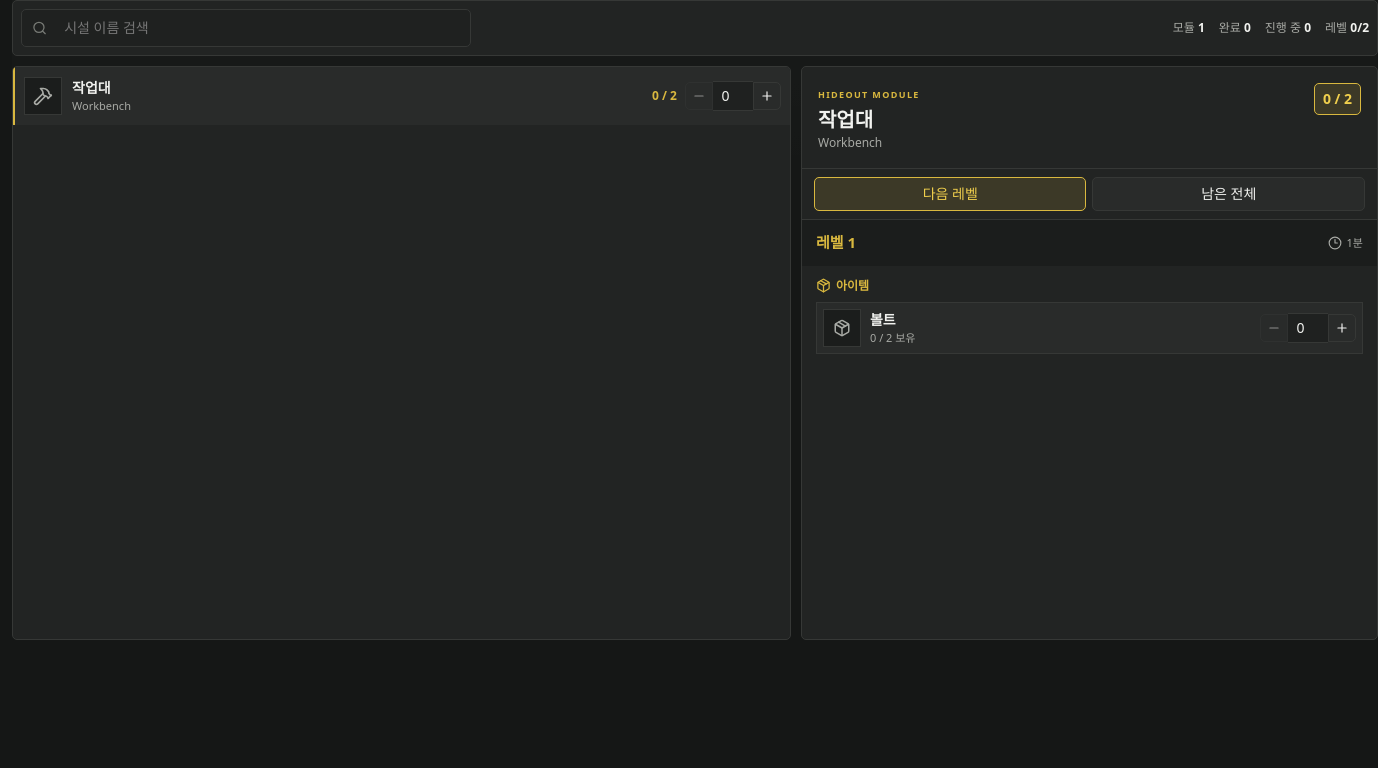
Test: HideoutPage › tracks station levels and reflects future requirements
Check: the text "볼트" is shown, box [870,310,896,329]
Check: the 1st text "0 / 2" is shown, box [652,87,677,104]
Click the button named "작업대 레벨 증가" at (767, 96), box [753,82,781,110]
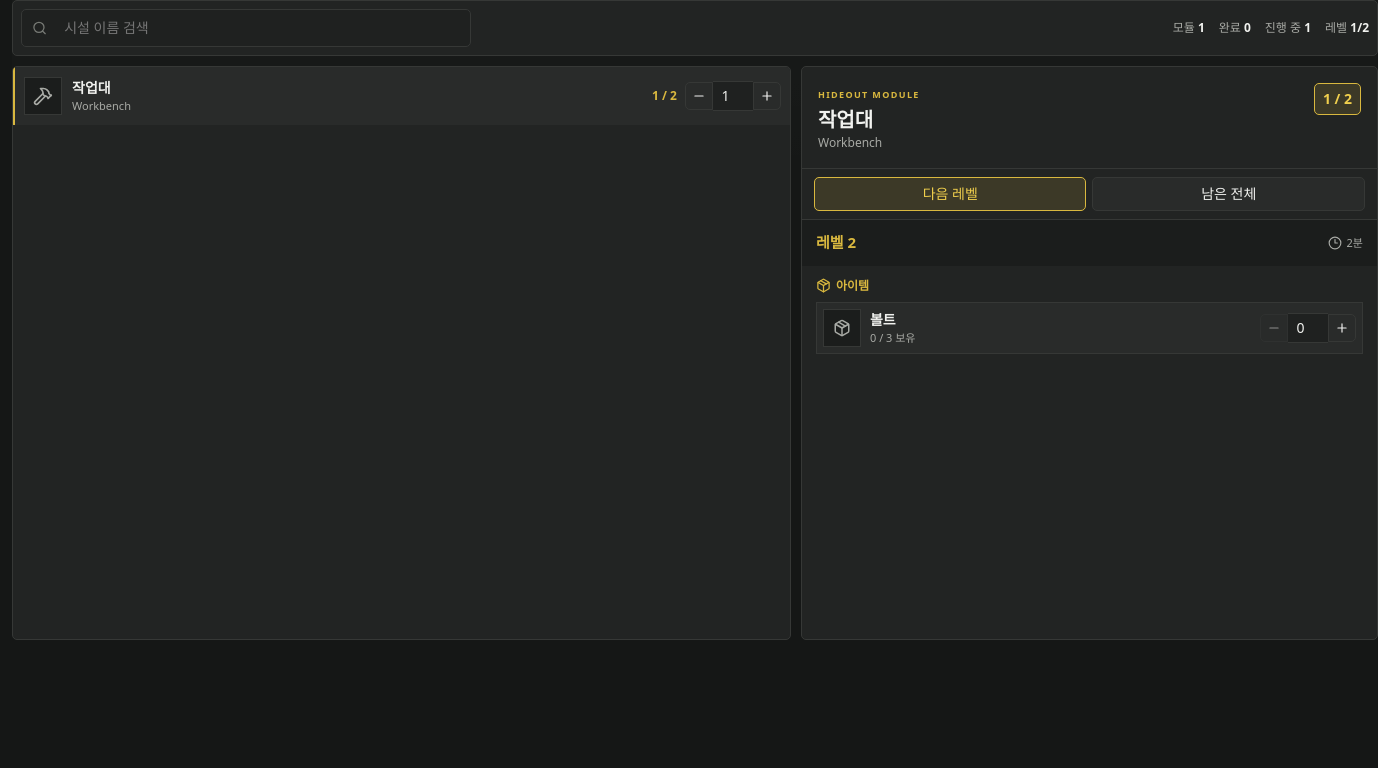
Check: the 1st text "1 / 2" is shown, box [652,87,677,104]
Check: the text "0 / 3 보유" is shown, box [870,330,916,345]
